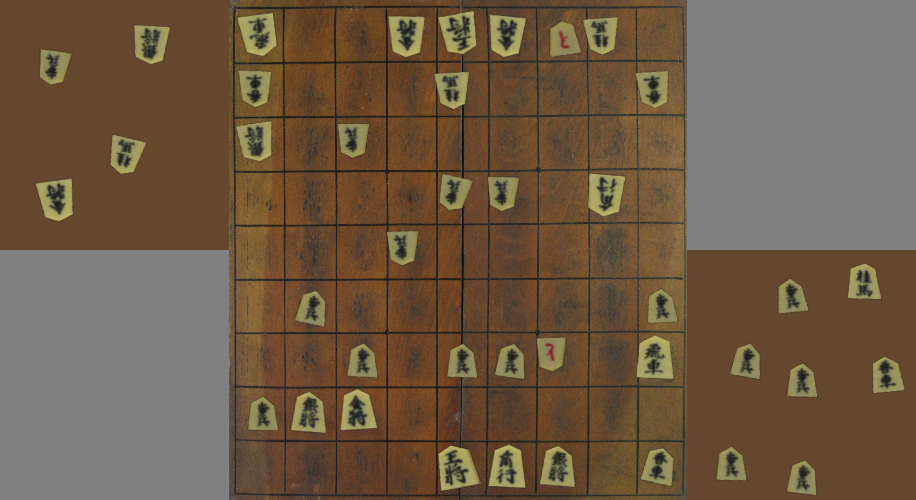A: (439, 446, 480, 491), (637, 337, 673, 379), (489, 446, 525, 487), (341, 391, 376, 430), (291, 393, 325, 433), (541, 447, 573, 486), (641, 449, 674, 486), (551, 22, 580, 56), (296, 292, 325, 326), (495, 345, 523, 378), (448, 345, 476, 377), (348, 345, 376, 376), (249, 398, 276, 430), (649, 290, 676, 322)
B: (439, 12, 478, 54), (238, 14, 275, 55), (236, 122, 273, 161), (490, 15, 525, 56), (589, 175, 624, 215), (389, 16, 423, 56), (584, 17, 618, 54), (435, 73, 468, 109), (240, 71, 271, 106), (638, 71, 668, 107), (441, 175, 471, 209), (488, 177, 518, 211), (388, 232, 417, 265), (339, 125, 368, 157), (538, 339, 565, 370)
C: (873, 358, 904, 393), (849, 265, 880, 299), (731, 345, 760, 379), (717, 448, 746, 480), (788, 462, 816, 495), (788, 365, 816, 397), (780, 280, 807, 312)
D: (37, 180, 72, 220), (136, 26, 169, 63), (112, 136, 144, 173), (40, 50, 71, 84)
